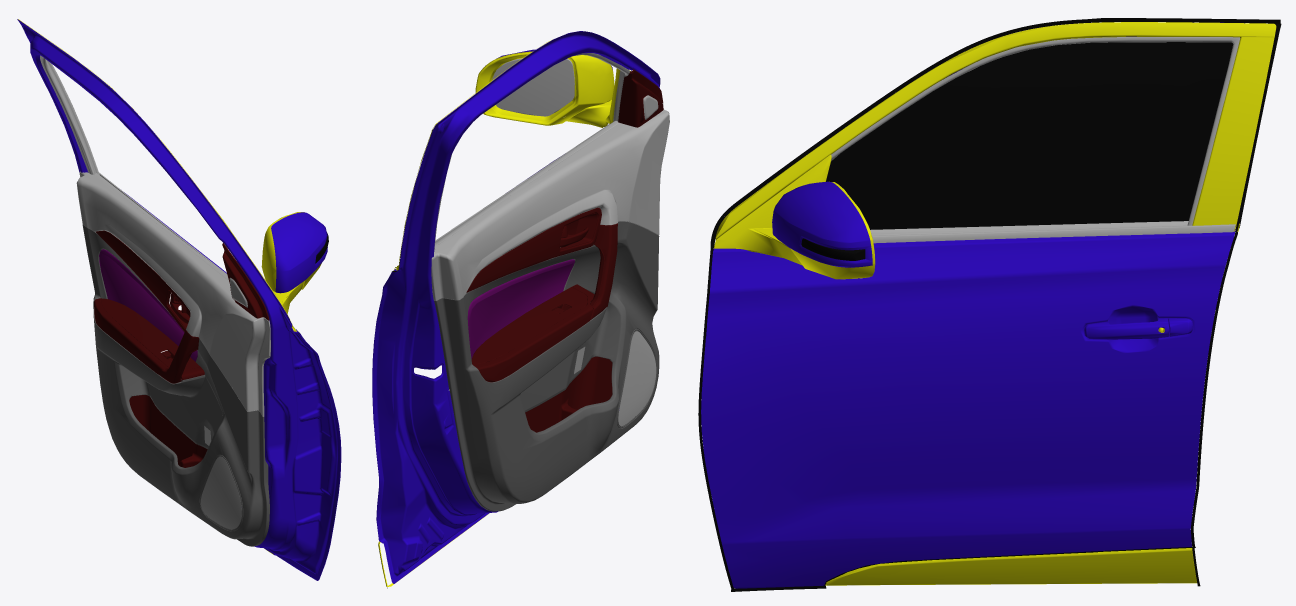
The model's file is TOYOTA_URBAN_CRUISER_MID_EX_FL_DOORS_MESH.glb.
The picture shows the model from 3 angles, left to right: view 1: azimuth 30°, elevation 25°; view 2: azimuth 150°, elevation 25°; view 3: azimuth 270°, elevation 25°; orthographic projection. The views are drawn at different scales.
Parts seen in each view (by area): view 1: TOYOTA_URBAN_CRUISER_MID_EX_FL_DOORS_MESH; view 2: TOYOTA_URBAN_CRUISER_MID_EX_FL_DOORS_MESH; view 3: TOYOTA_URBAN_CRUISER_MID_EX_FL_DOORS_MESH.
Part boxes in pixels (x1=…): TOYOTA_URBAN_CRUISER_MID_EX_FL_DOORS_MESH: x1=17, y1=19, x2=341, y2=580; TOYOTA_URBAN_CRUISER_MID_EX_FL_DOORS_MESH: x1=372, y1=31, x2=669, y2=588; TOYOTA_URBAN_CRUISER_MID_EX_FL_DOORS_MESH: x1=698, y1=18, x2=1281, y2=591.
Bounding box in the file's own units: 0.4331 × 1.18 × 1.19.
Materials: 15 (1 with a texture image).
